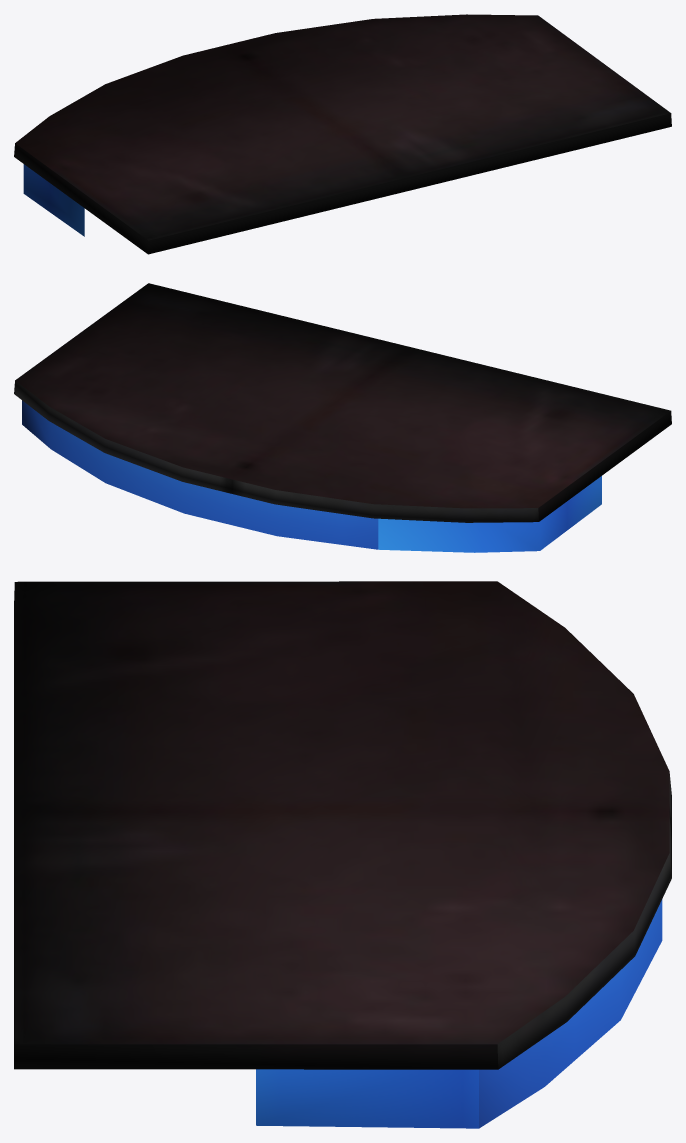
Rendered from ARC0610002.fbx.
3 renders of one model, top to bottom at view 1: azimuth 30°, elevation 25°; view 2: azimuth 150°, elevation 25°; view 3: azimuth 270°, elevation 25°, orthographic. The views are drawn at different scales.
Parts seen in each view (by area): view 1: smARC0610002; view 2: smARC0610002; view 3: smARC0610002.
Boxes of the visible parts, bbox=[...] form: smARC0610002: bbox=[14, 14, 671, 254]; smARC0610002: bbox=[14, 283, 671, 552]; smARC0610002: bbox=[14, 581, 671, 1128].
Size of the model in its own units: 321 by 27.96 by 192.
2 materials, 2 textured.
